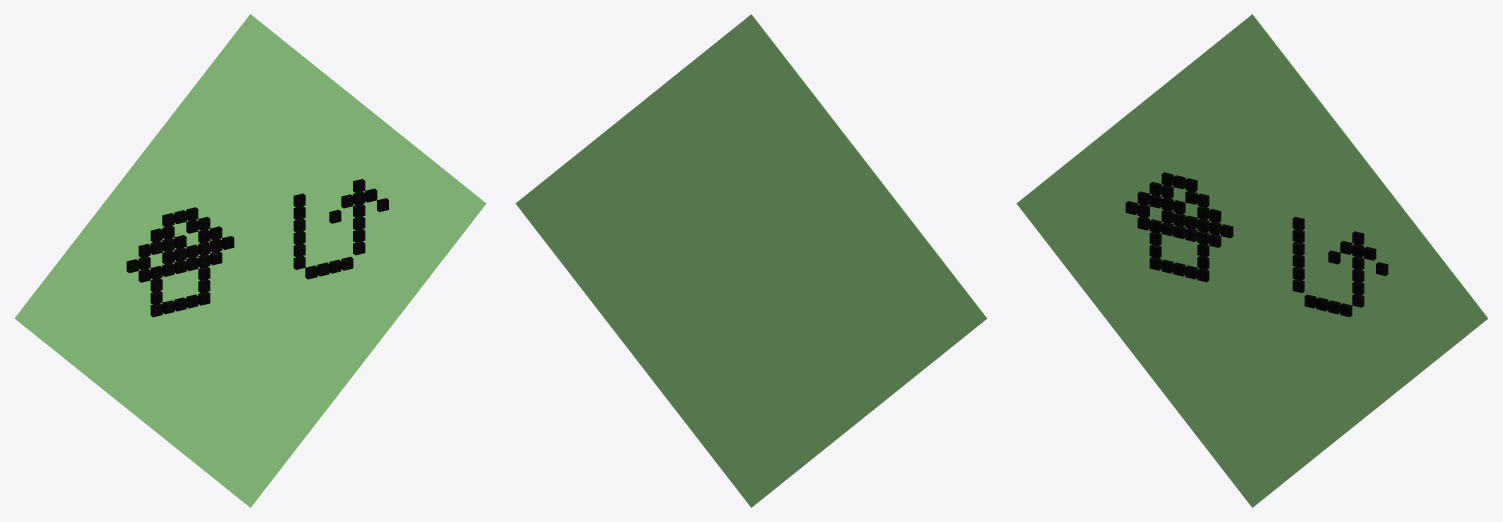
File: ClearMyPoison.fbx
3 views of the same model, side by side, from view 1: azimuth 30°, elevation 25°; view 2: azimuth 150°, elevation 25°; view 3: azimuth 330°, elevation 25° (orthographic).
Parts seen in each view (by area): view 1: Cube.031; view 2: Cube.031; view 3: Cube.031.
Part boxes in pixels (x1,y1,x2,y2): Cube.031: (14, 14, 486, 507); Cube.031: (515, 14, 987, 507); Cube.031: (1016, 14, 1488, 507).
Size of the model in its own units: 198 by 198 by 2.1.
